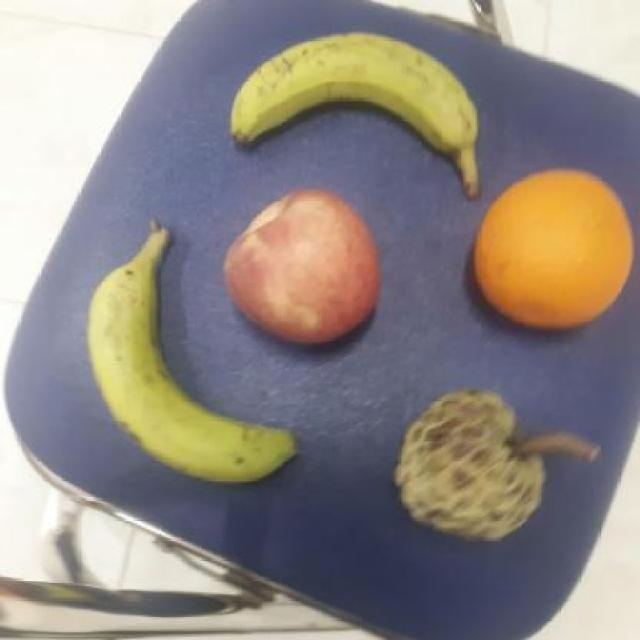apple: (223, 184, 388, 344)
banana: (77, 226, 297, 485), (223, 30, 486, 178)
oren: (463, 168, 634, 334)
sugar apple: (390, 384, 550, 544)
